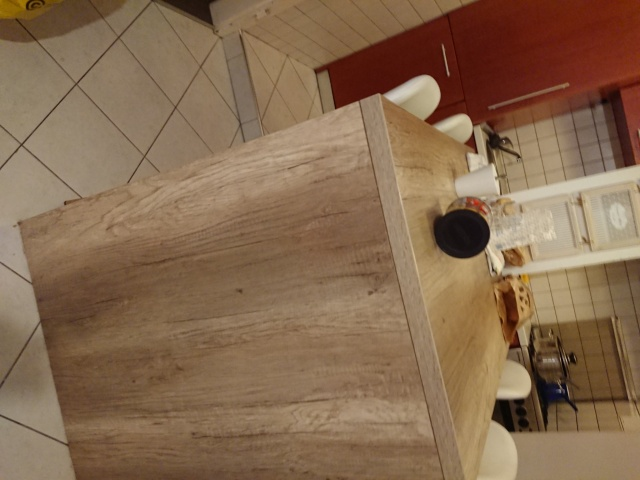Nescafe Classic 225g: (433, 194, 495, 260)
